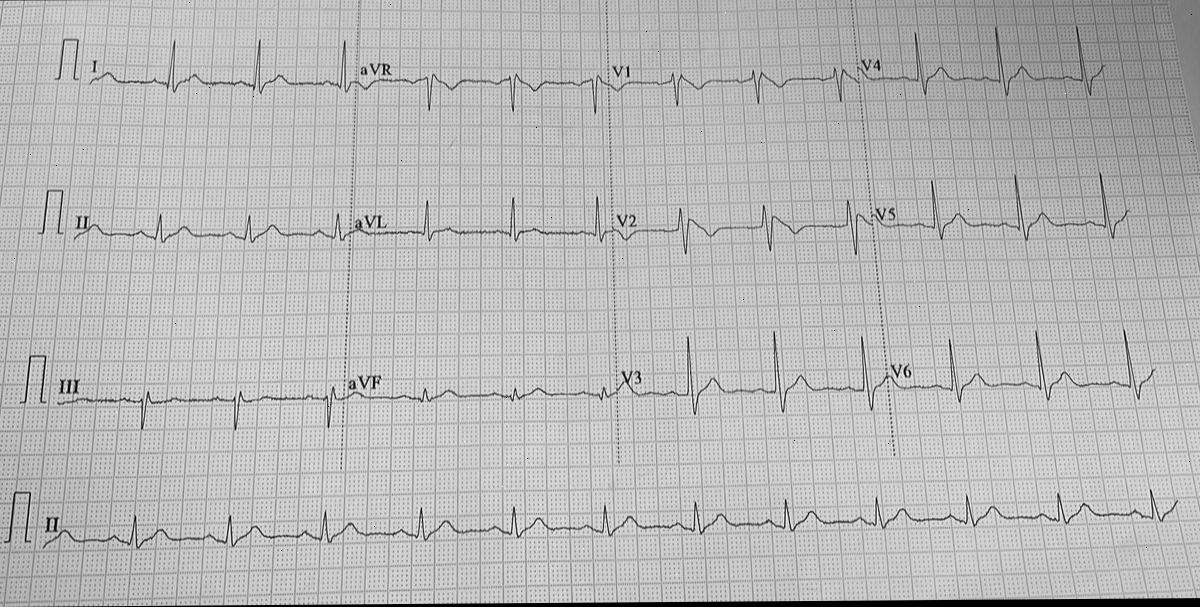Lead_I: (82, 27, 360, 127)
Lead_II: (71, 192, 351, 267)
Lead_III: (49, 362, 344, 445)
Lead_II_ext: (33, 487, 1188, 564)
Lead_V1: (605, 52, 860, 116)
Lead_V2: (612, 187, 876, 261)
Lead_V3: (617, 325, 890, 436)
Lead_V4: (858, 14, 1111, 124)
Lead_V5: (865, 165, 1140, 259)
Lead_V6: (885, 322, 1168, 422)
Lead_aVF: (344, 350, 619, 416)
Lead_aVL: (350, 185, 615, 262)
Lead_aVR: (360, 35, 607, 133)
